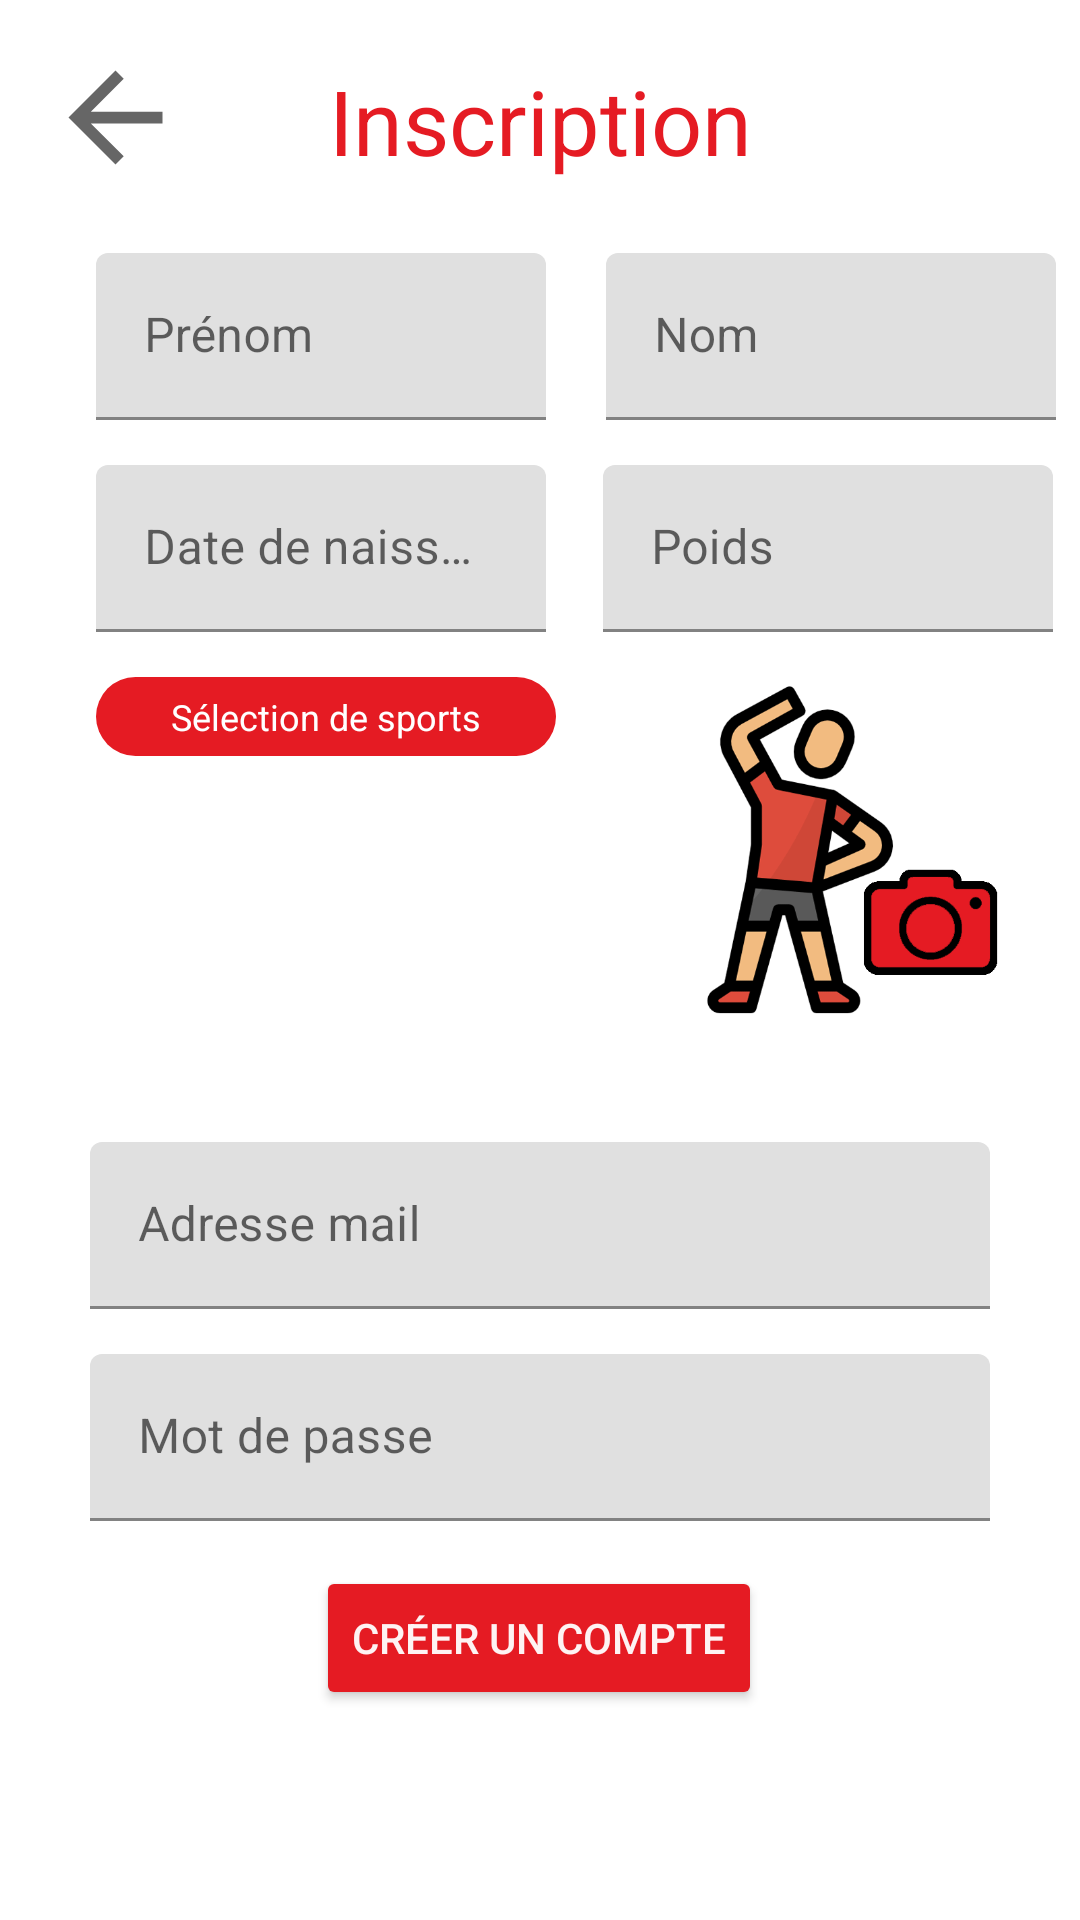

Named icons in this screenshot (1080 x 1920) and their centers, [x,y]:
profile pict: [852,850]
